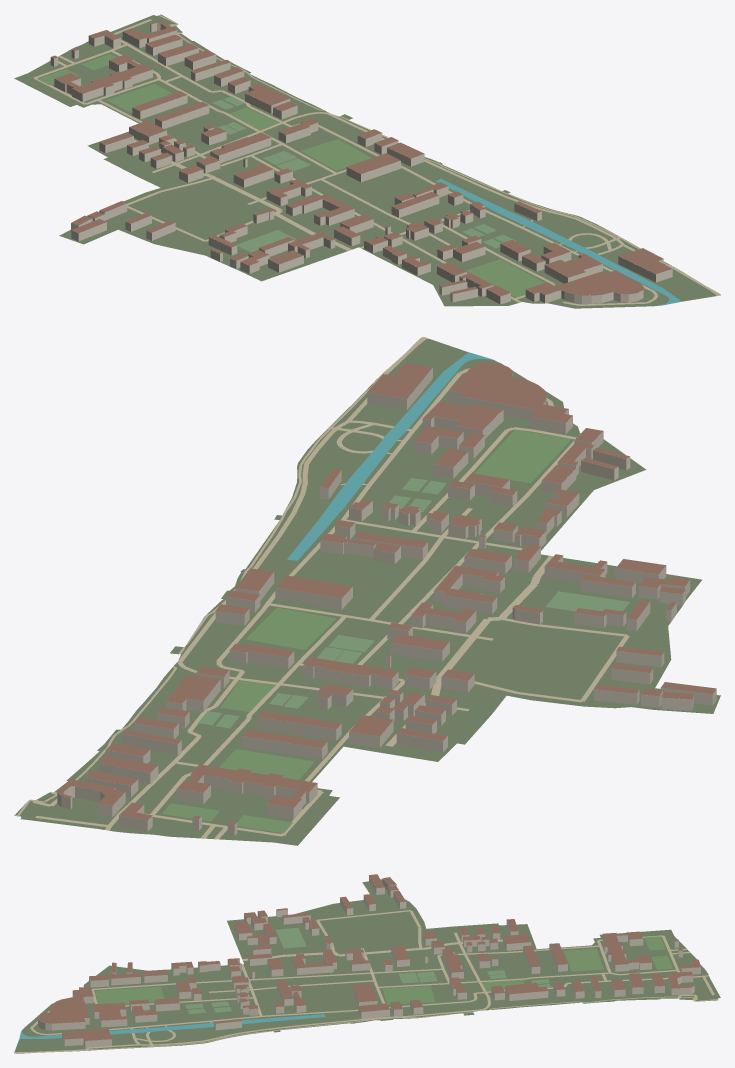
3 views of the same model, one above another, from view 1: azimuth 30°, elevation 25°; view 2: azimuth 150°, elevation 25°; view 3: azimuth 270°, elevation 25° (orthographic). The views are drawn at different scales.
Visible parts, largest first — view 1: campus-ground, buildings, roofs, environment (×4); view 2: campus-ground, buildings, roofs, environment (×4); view 3: campus-ground, environment (×4), roofs, buildings.
Boxes of the visible parts, <box> form: campus-ground: <box>14,15,720,308</box>; buildings: <box>50,23,672,304</box>; roofs: <box>51,21,671,296</box>; environment (×4): <box>33,14,720,305</box>; campus-ground: <box>14,338,720,845</box>; buildings: <box>57,367,716,835</box>; roofs: <box>57,362,716,824</box>; environment (×4): <box>14,337,629,839</box>; campus-ground: <box>14,879,720,1053</box>; environment (×4): <box>14,910,718,1053</box>; roofs: <box>38,874,700,1040</box>; buildings: <box>38,875,700,1047</box>.
Size of the model in its own units: 672 by 12.25 by 1146.
